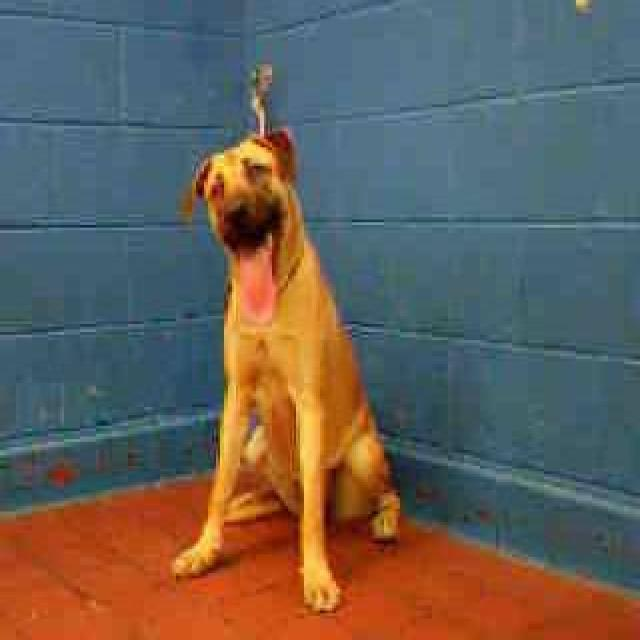dog: (170, 62, 400, 613)
